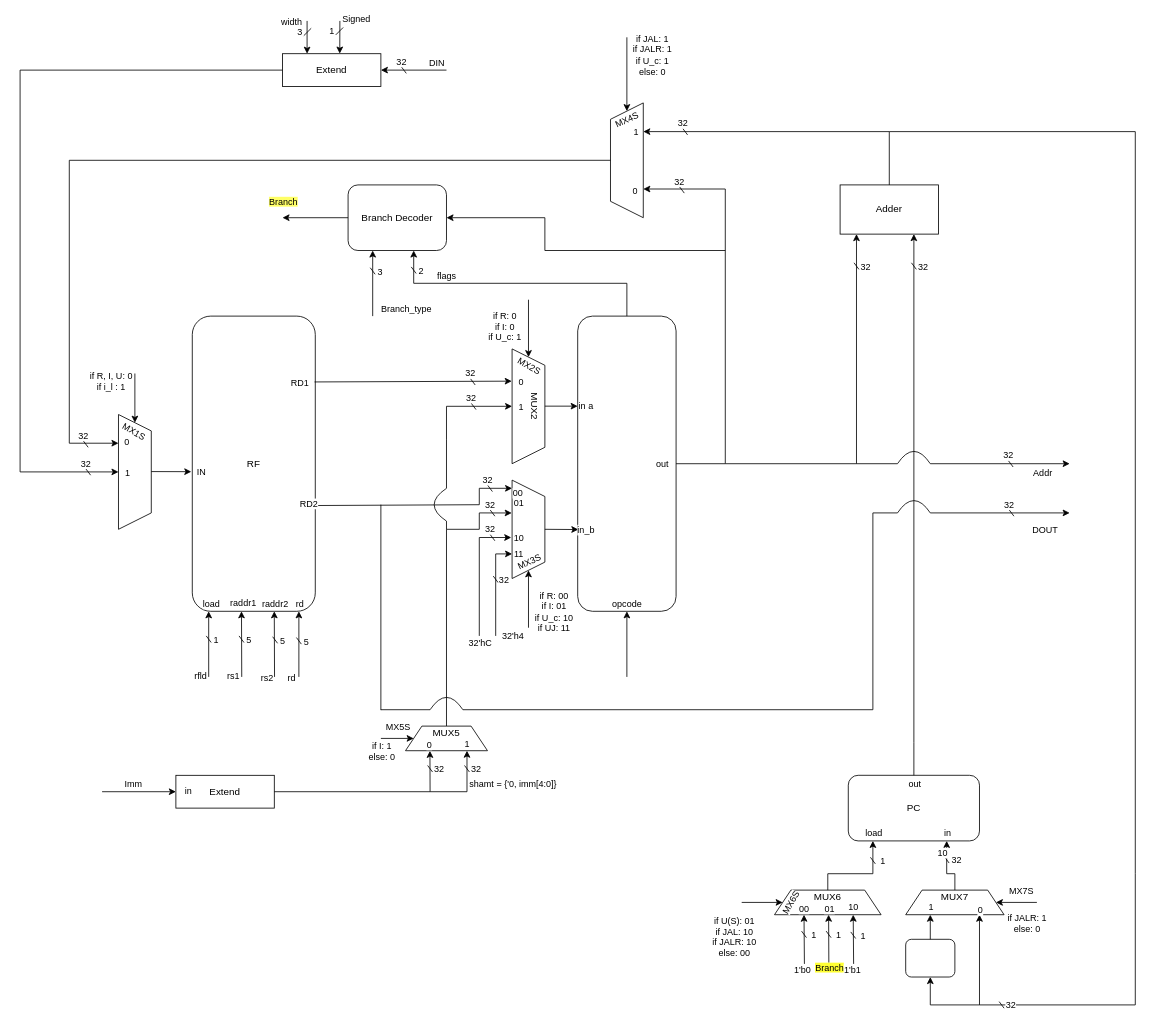
The diagram is 1156 pixels wide and 1026 high, and some of its shapes have lost their labels. Each missing label, with the centre of its shape:
"& ~0b11" goes at (930,957).
"ALU" goes at (626,463).
"MUX1" goes at (134,471).
"MUX3" goes at (528,529).
"MUX4" goes at (626,160).
